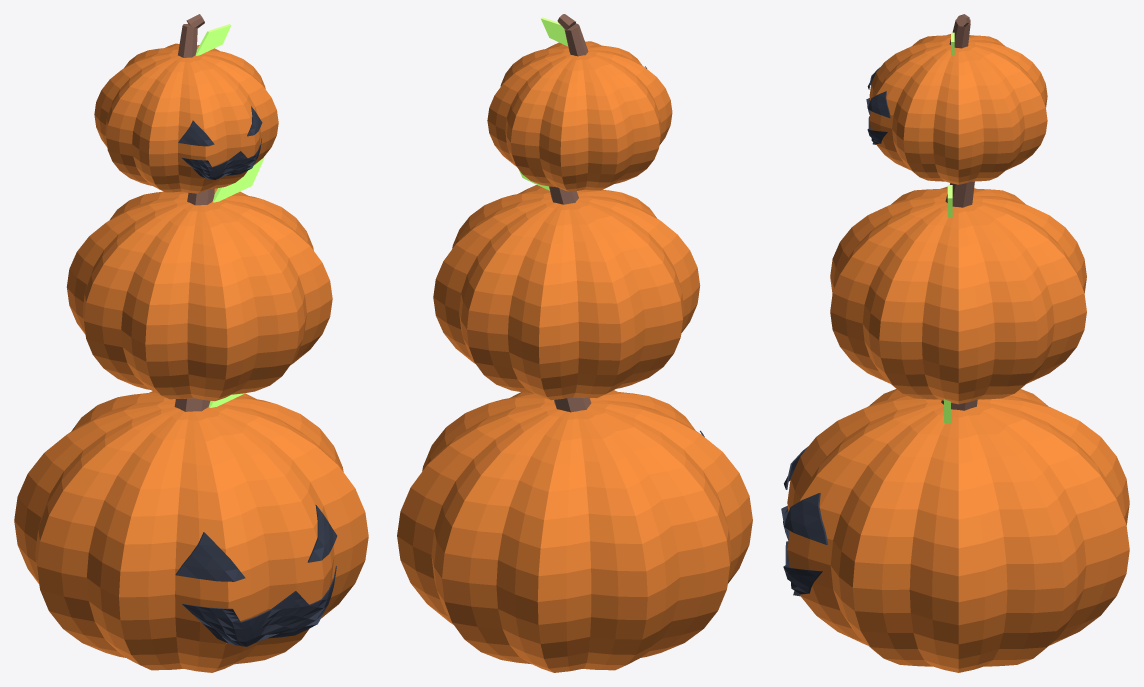
The model's file is pumpkin-totem.glb.
3 renders of one model, left to right at view 1: azimuth 30°, elevation 25°; view 2: azimuth 150°, elevation 25°; view 3: azimuth 270°, elevation 25°, orthographic.
Visible parts, largest first — view 1: pumpkin-stack; view 2: pumpkin-stack; view 3: pumpkin-stack.
Boxes of the visible parts, x1,y1,x2,y2 form: pumpkin-stack: (14,14,368,672); pumpkin-stack: (397,14,752,672); pumpkin-stack: (781,14,1129,672).
Size of the model in its own units: 0.9373 by 1.84 by 0.9074.
